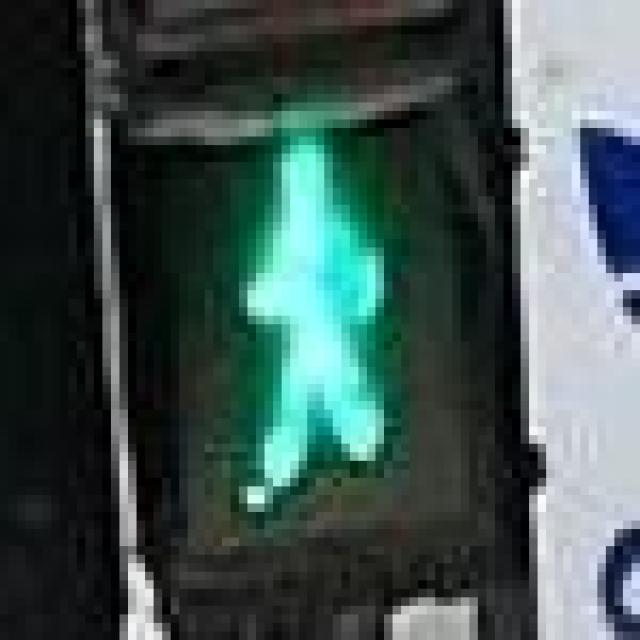geen-crossing: (128, 93, 486, 520)
